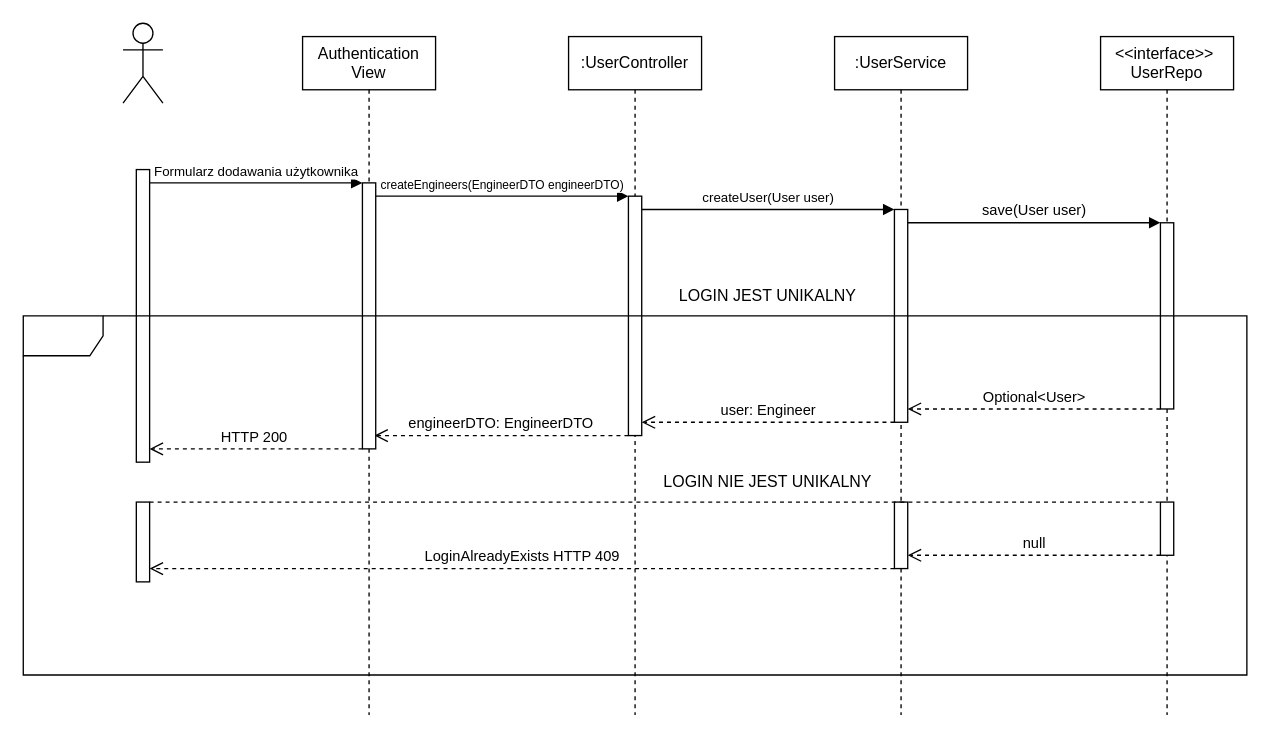
Image size: 1270x738. Some labels were removed from this diagram. The shapes that lost their labels are listed below. From the top down, each one's box as (x1, y1, x2, y2) in pixels, then its label:
(122, 22, 163, 103): Administrator
(22, 315, 1247, 675): ALT
